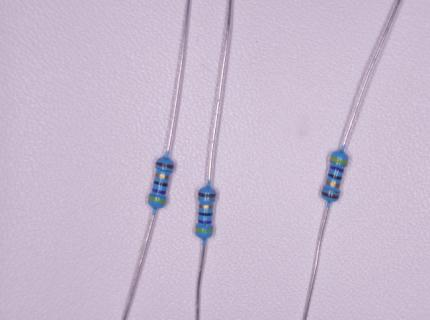Black band: (328, 172, 342, 180), (154, 180, 168, 187), (198, 212, 213, 216)
Brown band: (321, 191, 339, 200), (156, 161, 174, 169), (198, 192, 216, 198)
Gold band: (326, 180, 340, 188), (155, 173, 169, 179), (199, 204, 214, 209)
Violet band: (330, 166, 344, 173), (152, 189, 166, 194), (198, 220, 212, 224)
Yellow band: (149, 196, 166, 204), (331, 156, 348, 164), (195, 228, 213, 233)
